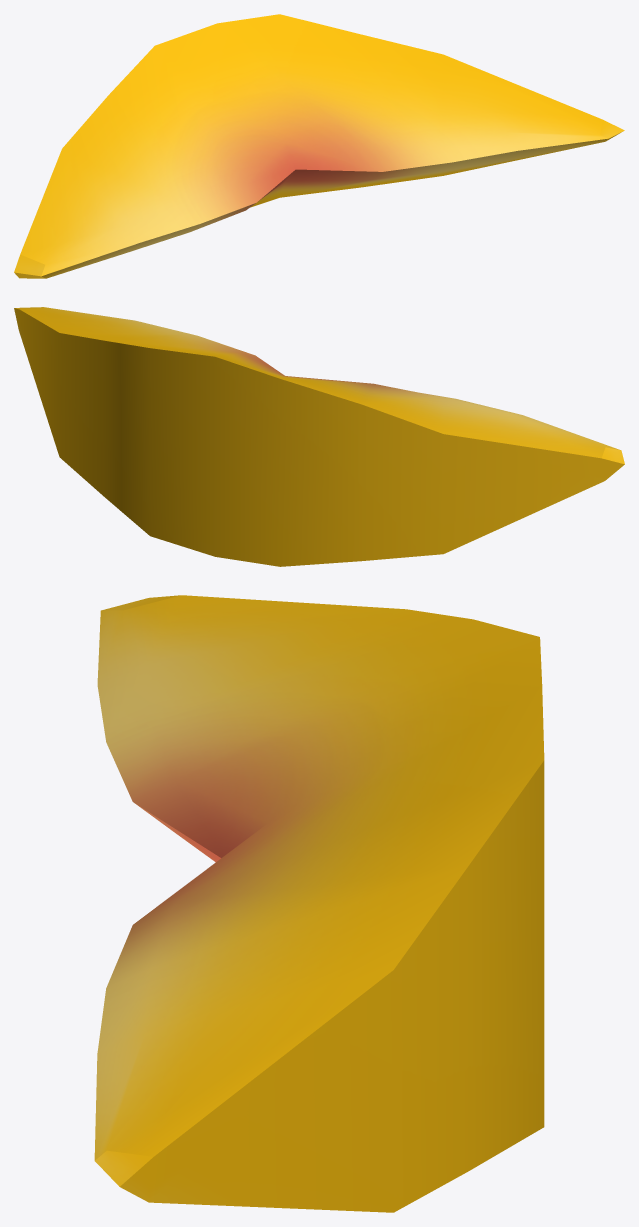
The model's file is peach.fbx.
3 views of the same model, one above another, from view 1: azimuth 30°, elevation 25°; view 2: azimuth 150°, elevation 25°; view 3: azimuth 270°, elevation 25° (orthographic). The views are drawn at different scales.
Visible parts, largest first — view 1: Box001; view 2: Box001; view 3: Box001.
Part boxes in pixels (x1=…): Box001: x1=14, y1=14, x2=624, y2=278; Box001: x1=14, y1=307, x2=624, y2=566; Box001: x1=94, y1=595, x2=544, y2=1212.
Size of the model in its own units: 38.32 by 11.85 by 12.36.
Materials: 1 (1 with a texture image).
